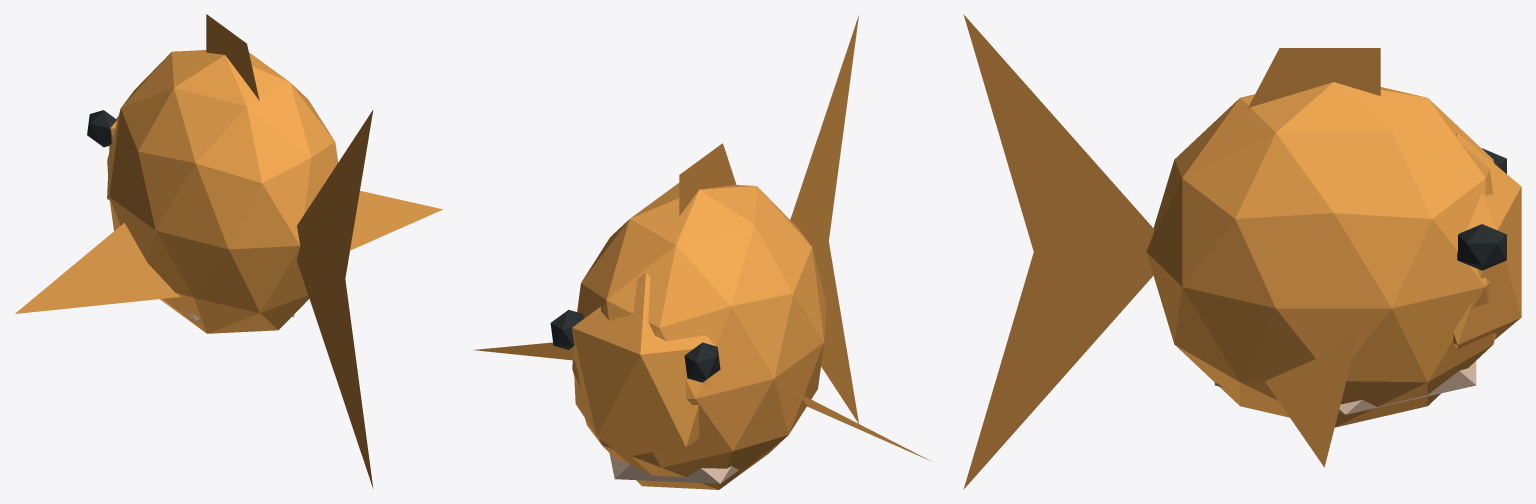
The model's file is Goldfish.fbx.
The picture shows the model from 3 angles, left to right: view 1: azimuth 30°, elevation 25°; view 2: azimuth 150°, elevation 25°; view 3: azimuth 270°, elevation 25°; orthographic projection. The views are drawn at different scales.
Visible parts, largest first — view 1: Body, TailFin, Pectoral1, Pectoral-1, DorsalFin, Eye1; view 2: Body, Head, TailFin, DorsalFin, Belly, Eye1, Pectoral-1, Eye-1, Pectoral1; view 3: Body, TailFin, Head, Pectoral-1, DorsalFin, Eye-1, Belly.
Boxes of the visible parts, x1=… form: Body: x1=107, y1=50, x2=337, y2=333; TailFin: x1=297, y1=110, x2=373, y2=488; Pectoral1: x1=15, y1=223, x2=181, y2=313; Pectoral-1: x1=350, y1=191, x2=442, y2=250; DorsalFin: x1=206, y1=14, x2=259, y2=101; Eye1: x1=87, y1=110, x2=116, y2=147; Body: x1=572, y1=183, x2=826, y2=489; Head: x1=572, y1=273, x2=715, y2=473; TailFin: x1=790, y1=15, x2=858, y2=423; DorsalFin: x1=679, y1=143, x2=736, y2=215; Belly: x1=609, y1=453, x2=738, y2=483; Eye1: x1=684, y1=342, x2=720, y2=382; Pectoral-1: x1=473, y1=342, x2=573, y2=360; Eye-1: x1=550, y1=309, x2=583, y2=349; Pectoral1: x1=787, y1=387, x2=931, y2=461; Body: x1=1146, y1=82, x2=1496, y2=427; TailFin: x1=963, y1=14, x2=1154, y2=489; Head: x1=1453, y1=133, x2=1521, y2=348; Pectoral-1: x1=1265, y1=330, x2=1358, y2=467; DorsalFin: x1=1247, y1=48, x2=1380, y2=108; Eye-1: x1=1457, y1=224, x2=1506, y2=270; Belly: x1=1214, y1=361, x2=1476, y2=414.
Size of the model in its own units: 0.528 by 0.448 by 0.476.
